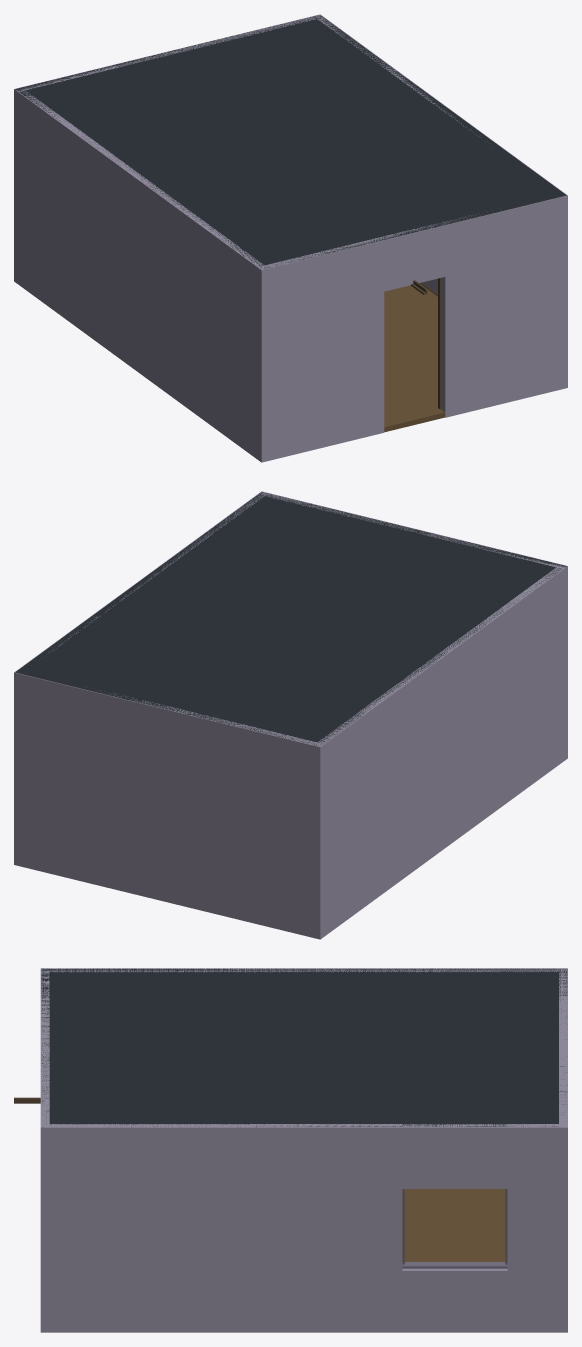
The model's file is apartment_envelope.glb.
3 renders of one model, top to bottom at view 1: azimuth 30°, elevation 25°; view 2: azimuth 150°, elevation 25°; view 3: azimuth 270°, elevation 25°, orthographic. The views are drawn at different scales.
Parts seen in each view (by area): view 1: ceiling, wall_left, wall_front_left, wall_front_right, floor, wall_front_lintel, wall_back, wall_right_north; view 2: ceiling, wall_back, wall_left, wall_front_left, wall_right_north; view 3: ceiling, wall_right_north, wall_right_south, floor, wall_right_below, wall_right_above, wall_back, wall_front_right, wall_left, wall_window_sill, wall_front_left.
Part boxes in pixels (x1,y1,x2,y2): ceiling: (15,15,566,268); wall_left: (18,90,263,458); wall_front_left: (257,237,384,462); wall_front_right: (441,192,567,417); floor: (384,284,444,432); wall_front_lintel: (380,223,445,291); wall_back: (14,14,324,283); wall_right_north: (391,71,563,293); ceiling: (15,492,566,746); wall_back: (14,669,324,939); wall_left: (317,567,563,935); wall_front_left: (442,536,567,760); wall_right_north: (92,494,264,616); ceiling: (41,968,567,1126); wall_right_north: (49,1124,402,1332); wall_right_south: (507,1124,558,1332); floor: (402,1189,507,1261); wall_right_below: (402,1268,507,1332); wall_right_above: (402,1124,507,1188); wall_back: (559,968,567,1332); wall_front_right: (40,1064,49,1332); wall_left: (49,968,558,972); wall_window_sill: (402,1262,507,1268); wall_front_left: (40,968,49,1032).
Size of the model in its own units: 5 by 3 by 7.35.
